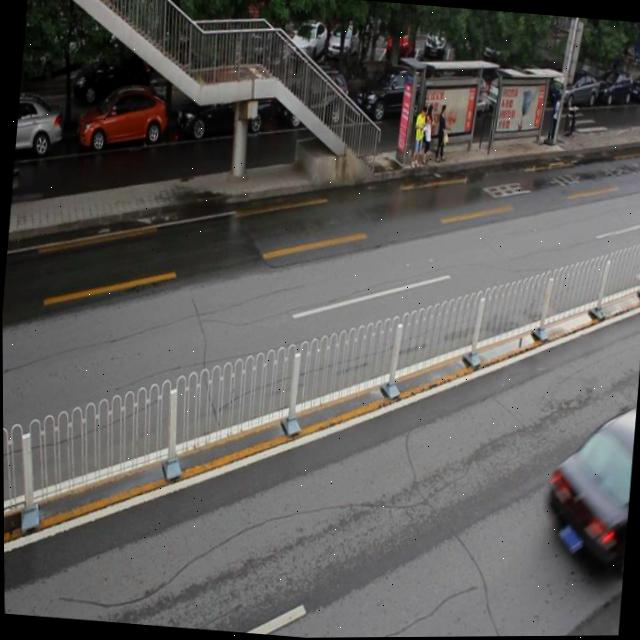car: (537, 404, 636, 571), (176, 68, 274, 142), (75, 83, 168, 155), (277, 63, 350, 133), (357, 61, 433, 126), (14, 93, 66, 160)
